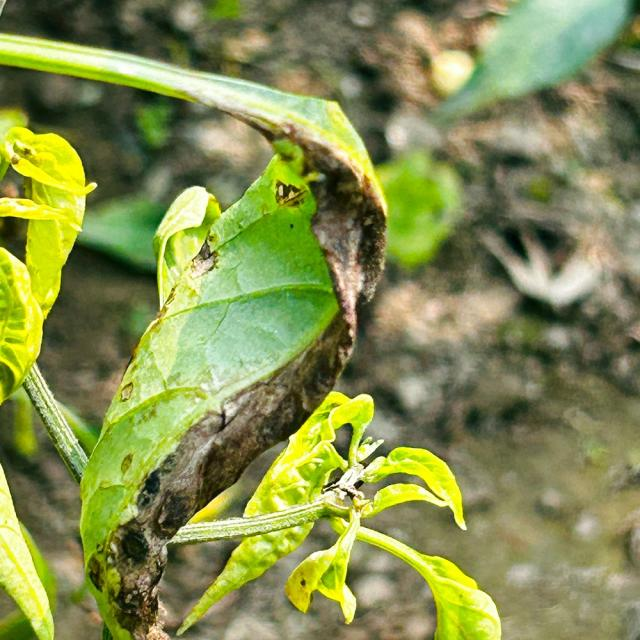Chilli_Leaf_Curl: (1, 29, 500, 639), (1, 29, 389, 373), (76, 148, 343, 637), (166, 389, 502, 638), (0, 124, 97, 405), (0, 462, 54, 638)
